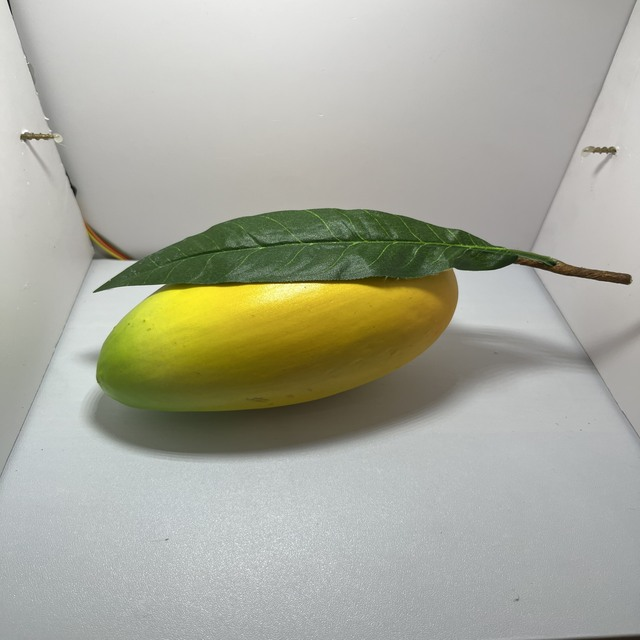Xoai: (89, 210, 468, 424)
